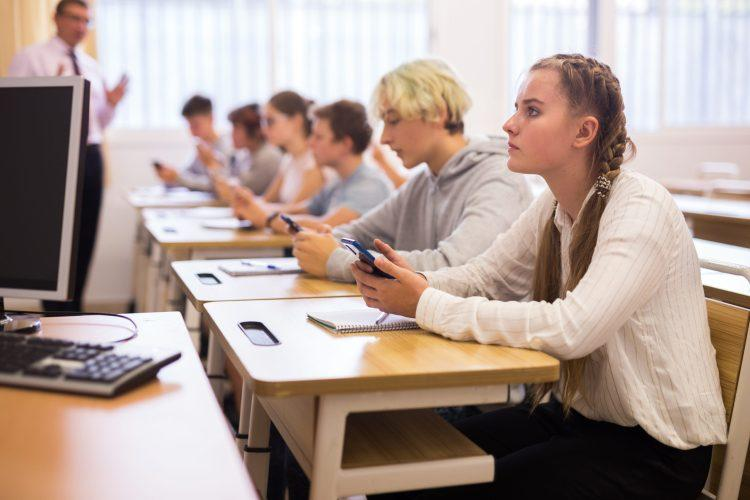phone: (338, 43, 707, 351), (279, 60, 524, 287), (151, 92, 226, 194)
